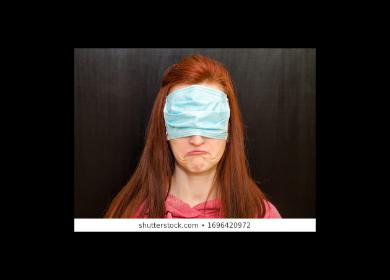mask_weared_incorrect: (167, 90, 228, 170)
